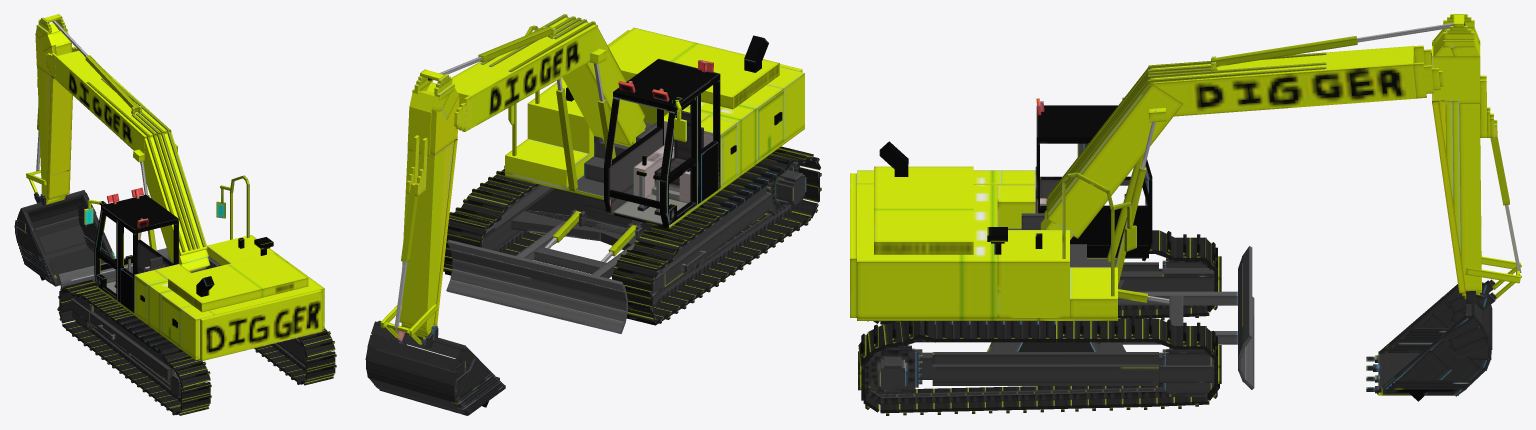
Rendered from bil_mechanici.glb.
The picture shows the model from 3 angles, left to right: view 1: azimuth 30°, elevation 25°; view 2: azimuth 150°, elevation 25°; view 3: azimuth 270°, elevation 25°; orthographic projection. The views are drawn at different scales.
Visible parts, largest first — view 1: cube.003_33; view 2: cube.003_33; view 3: cube.003_33.
Boxes of the visible parts, box(x1,y1,x2,y2) form: cube.003_33: box(14, 14, 336, 415); cube.003_33: box(365, 14, 821, 415); cube.003_33: box(850, 14, 1521, 415).
Size of the model in its own units: 4.79 by 7.22 by 12.23.
1 material, 1 textured.
